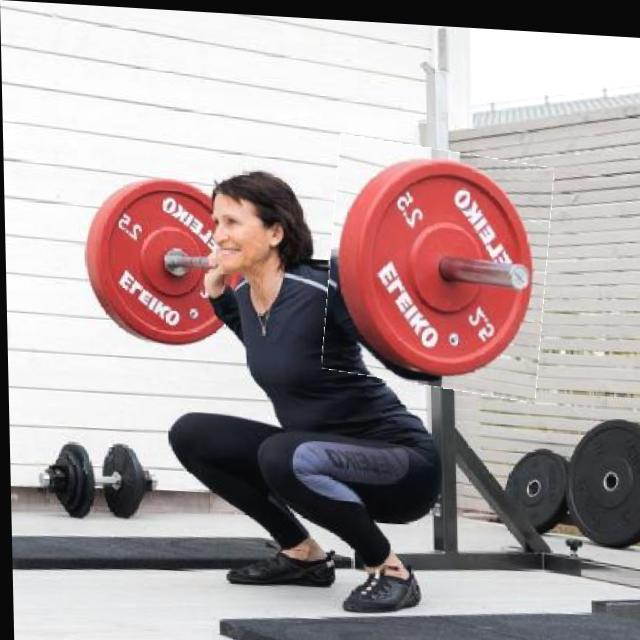barbell: (323, 135, 553, 393)
